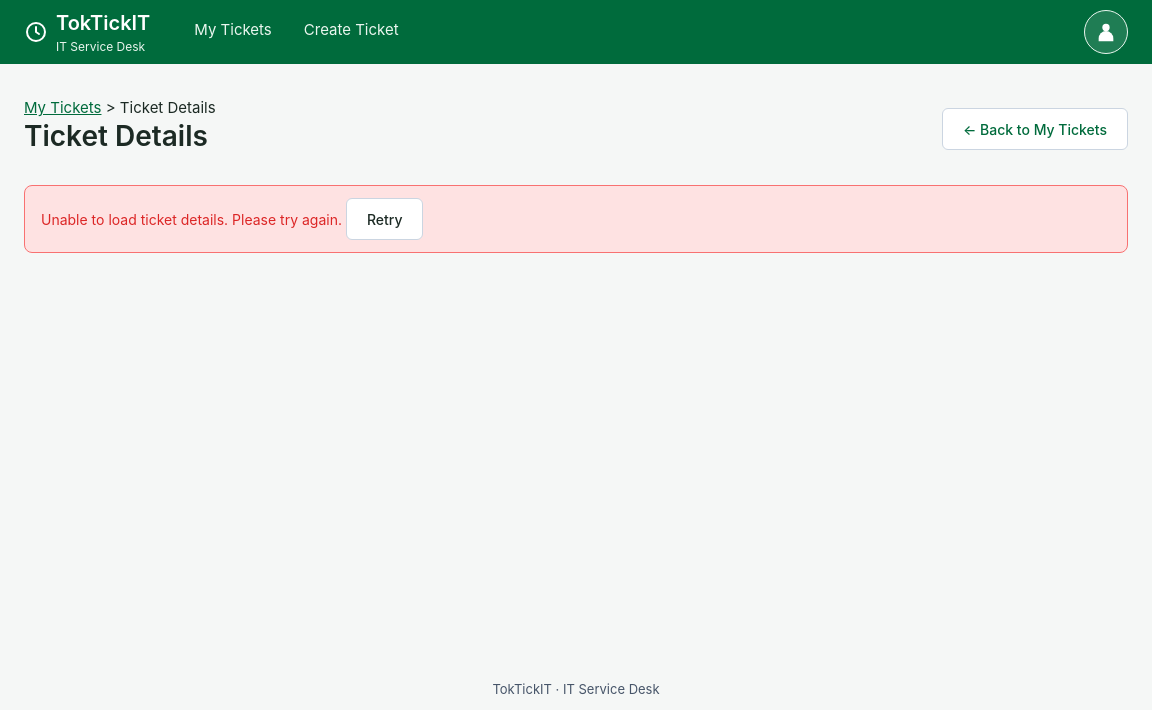
Test case: supports server failure/retry states
Click the button "Retry".
click(385, 219)  # box [346,198,424,240]
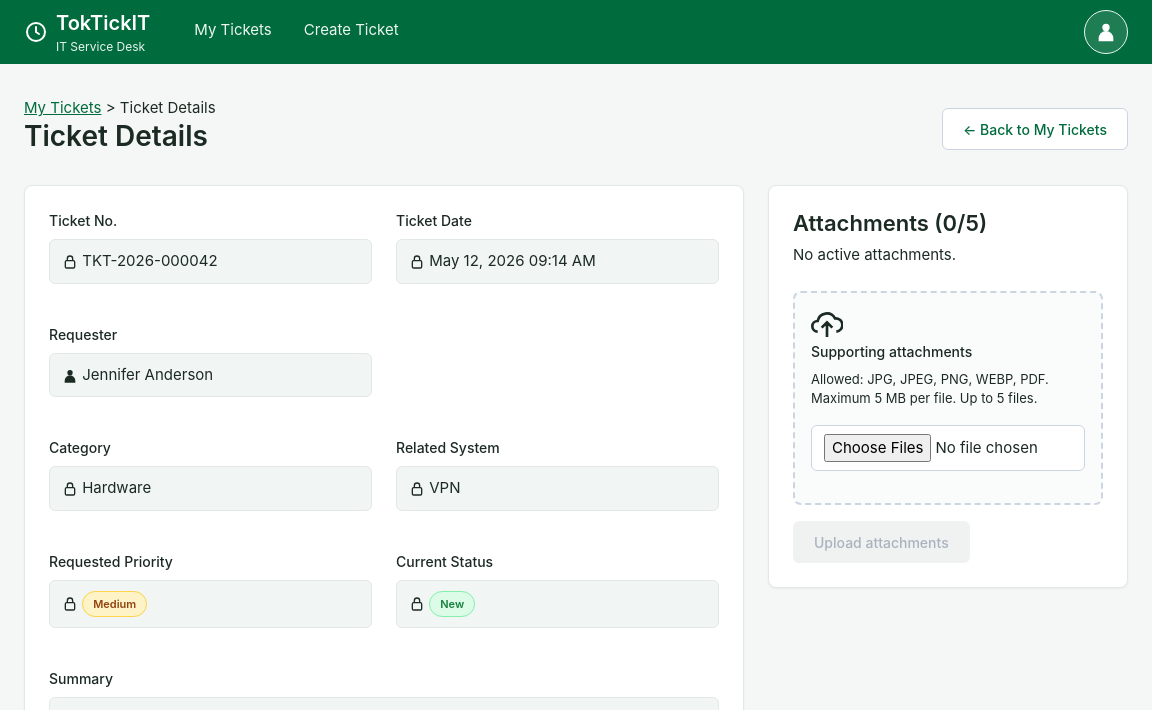
expect the text "TKT-2026-000042" is shown: met, box [49,239,372,284]
